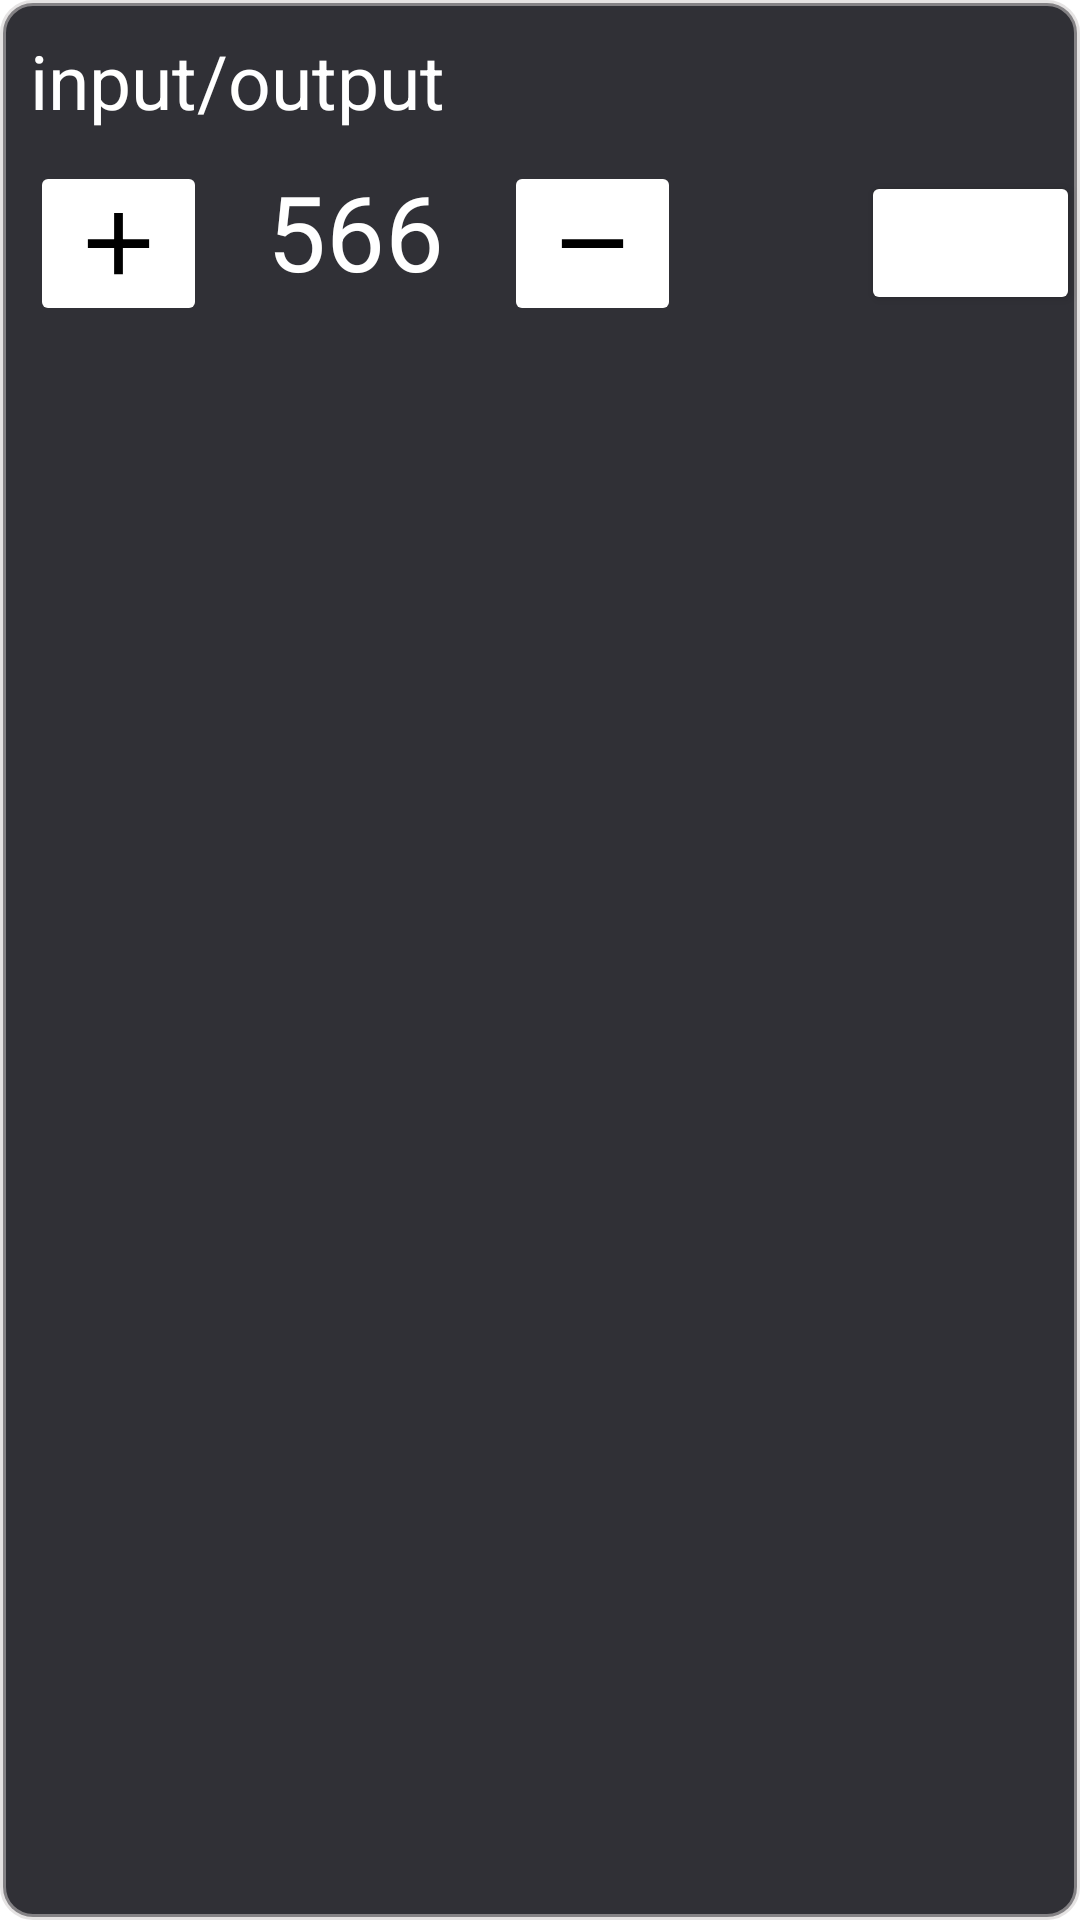

Locate icon controls on the screen. Image size 1080w x 1920h, boxes as (x1, y1, x2, y2).
add: (42, 179, 195, 308)
substract: (516, 179, 669, 308)
